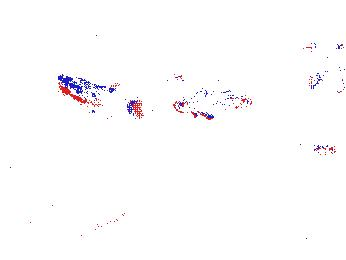red belly glassfish: (201, 88, 254, 110), (294, 138, 338, 158)
redtail glassfish: (56, 73, 142, 121), (105, 69, 186, 94), (307, 64, 346, 90), (308, 30, 346, 54)
